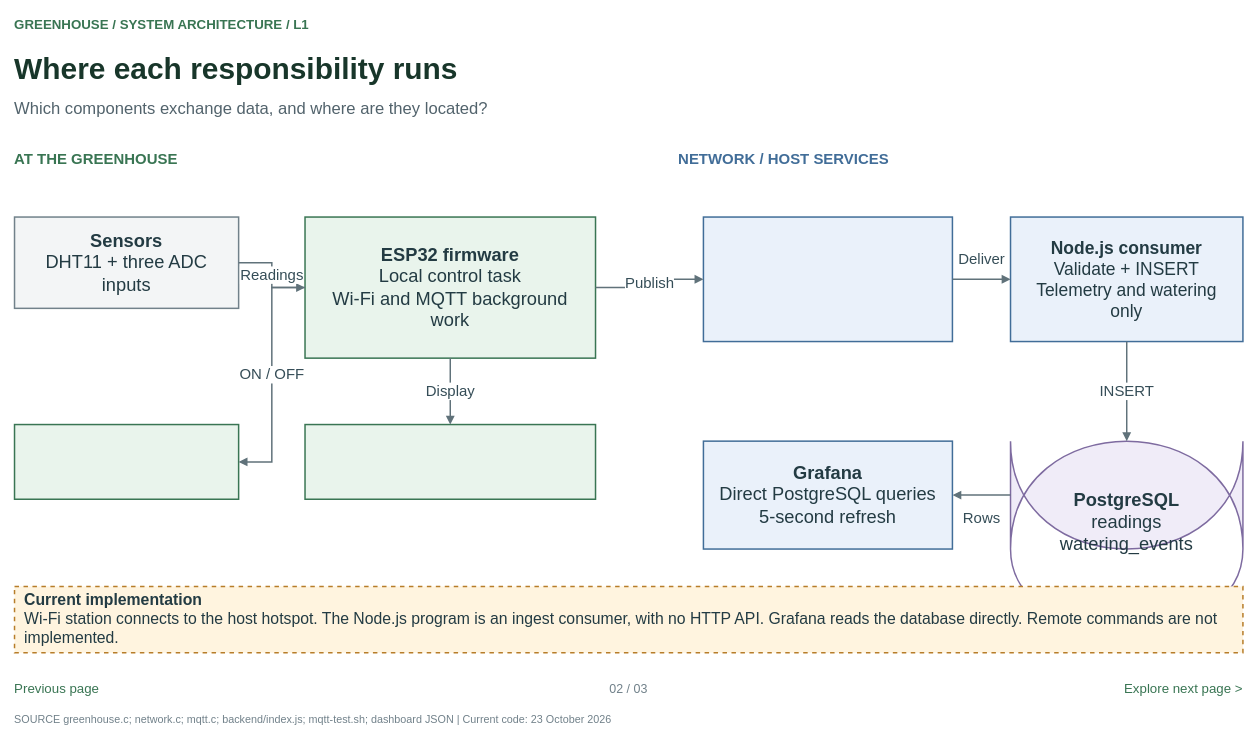
Some shapes in this 1258 by 742 pixel diagram are drawn without their labels. The box of each missing label's shape, as (x1, y1, x2, y2) in pixels:
MQTT broker 10.42.0.1:1883 Three topics for device 01: (702, 216, 953, 342)
OLED I2C local status: (304, 423, 596, 500)
Watering unit GPIO16 pump enable: (13, 423, 239, 500)
